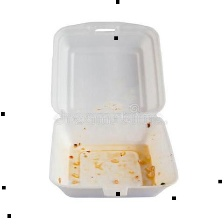foam_box: (42, 14, 182, 203)
